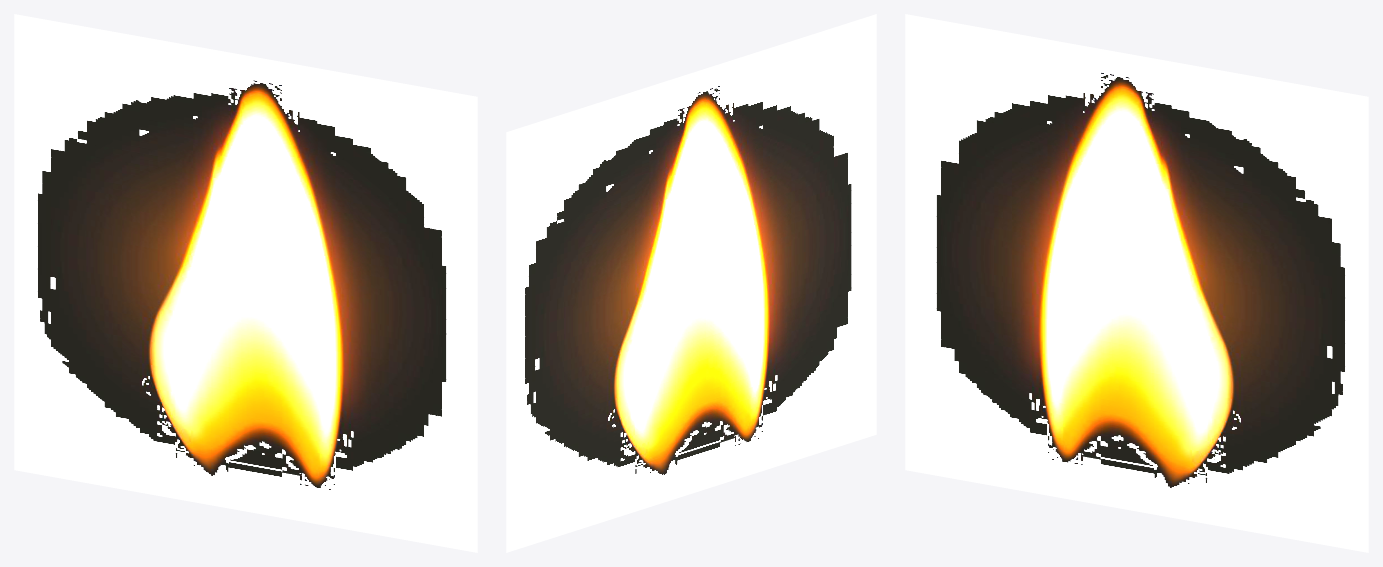
The picture shows the model from 3 angles, left to right: view 1: azimuth 90°, elevation 25°; view 2: azimuth 150°, elevation 25°; view 3: azimuth 270°, elevation 25°; orthographic projection. The views are drawn at different scales.
Visible parts, largest first — view 1: _272; view 2: _272; view 3: _272.
Part boxes in pixels (box(x1,y1,x2,y2)): _272: box(14, 14, 477, 552); _272: box(506, 14, 876, 552); _272: box(905, 14, 1368, 552).
Bounding box in the file's own units: 2.77 × 7.1 × 6.54.
